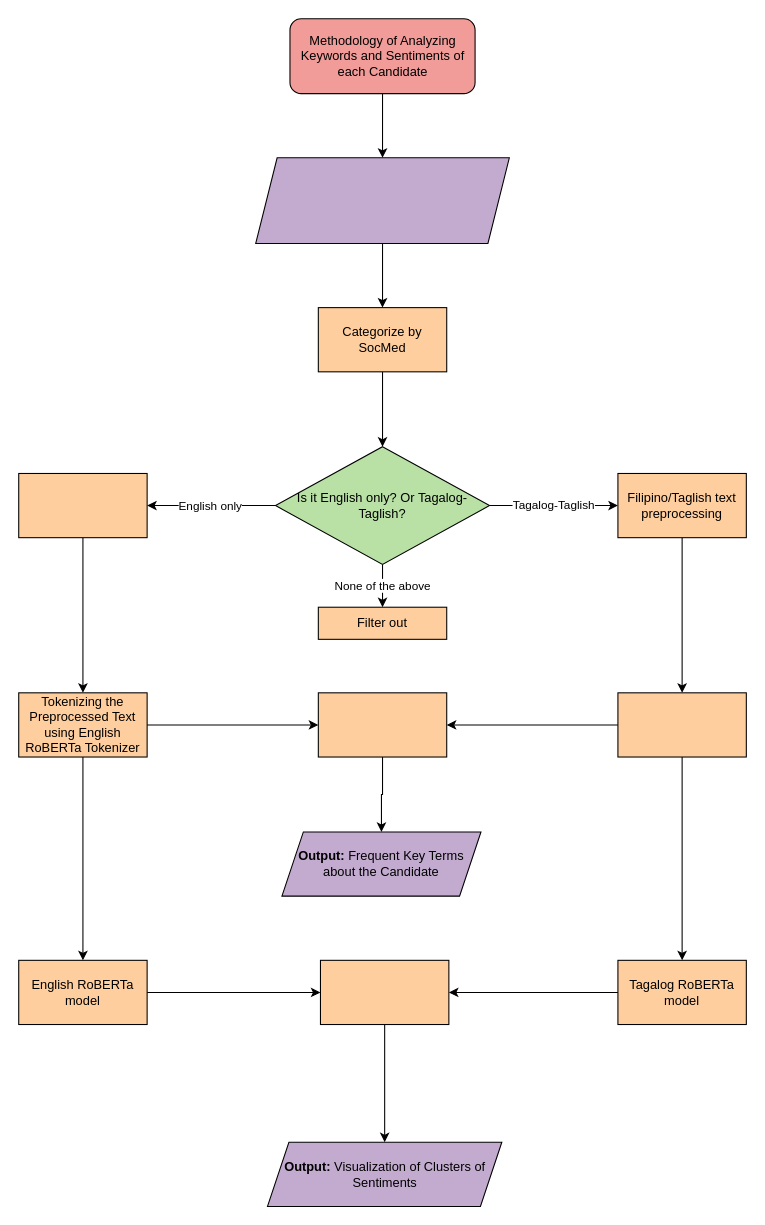
This 765x1225 diagram has some shape labels left out. Here are the shapes that lost their labels. From the top down, the centre of each, then its label:
pixel 382 200: Facebook, Twitter, TikTok Dataset of a Candidate during an Election season
pixel 82 505: English text preprocessing
pixel 382 724: Keyword Extraction using TF-IDF
pixel 681 724: Tokenizing the Preprocessed Text using Tagalog RoBERTa Tokenizer
pixel 384 992: Performing K-Means Model
